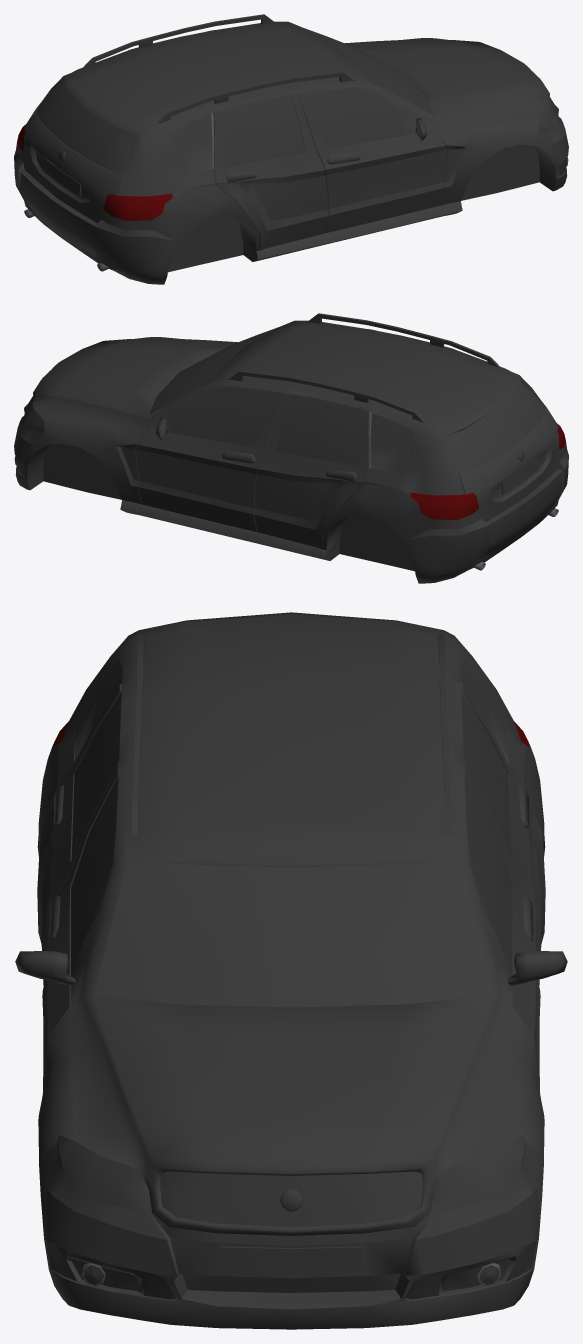
The model's file is SM_suv_parts_LOD2_body.FBX.
3 renders of one model, top to bottom at view 1: azimuth 30°, elevation 25°; view 2: azimuth 150°, elevation 25°; view 3: azimuth 270°, elevation 25°, orthographic. The views are drawn at different scales.
Parts seen in each view (by area): view 1: SM_suv_parts_LOD2_body; view 2: SM_suv_parts_LOD2_body; view 3: SM_suv_parts_LOD2_body.
Boxes of the visible parts, <box> form: SM_suv_parts_LOD2_body: <box>14,14,568,284</box>; SM_suv_parts_LOD2_body: <box>14,313,568,583</box>; SM_suv_parts_LOD2_body: <box>15,612,567,1329</box>.
Bounding box in the file's own units: 464 × 229 × 146.
